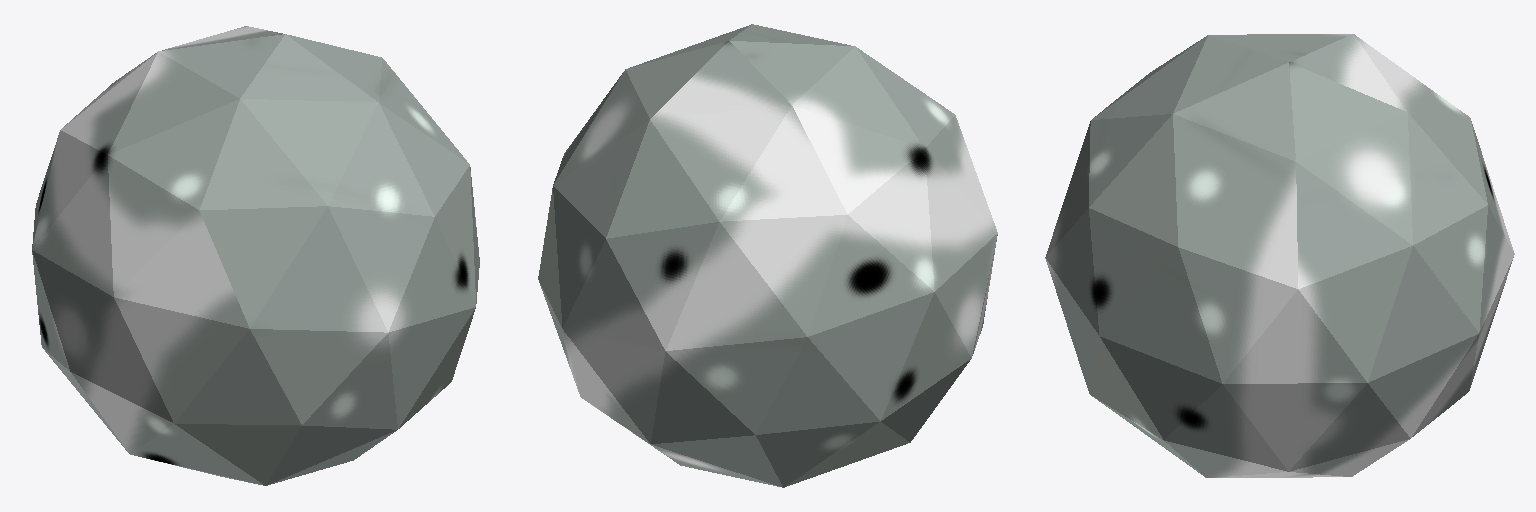
3 views of the same model, side by side, from view 1: azimuth 30°, elevation 25°; view 2: azimuth 150°, elevation 25°; view 3: azimuth 270°, elevation 25° (orthographic).
Parts seen in each view (by area): view 1: ICO球; view 2: ICO球; view 3: ICO球.
Part boxes in pixels (x1,y1,x2,y2): ICO球: (32, 26, 479, 485); ICO球: (538, 24, 997, 487); ICO球: (1045, 34, 1514, 477).
Bounding box in the file's own units: 5.15 × 5.3 × 5.36.
1 materials, 1 textured.